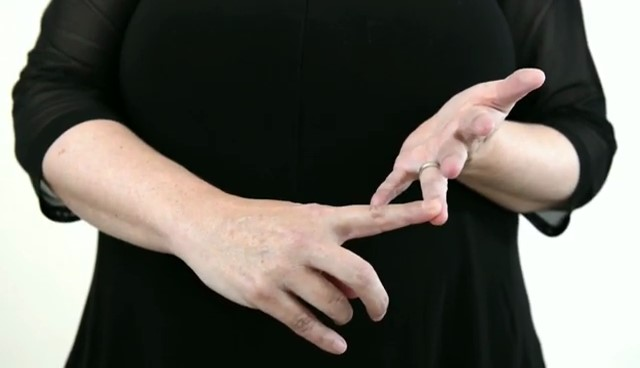O: (183, 49, 557, 361)
